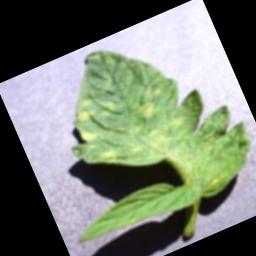Leaf_Mold: (134, 96, 164, 125), (72, 103, 99, 126), (77, 125, 98, 146), (99, 147, 119, 166), (204, 174, 222, 190)
